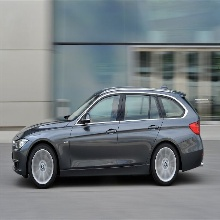no damage: (10, 86, 204, 188)
